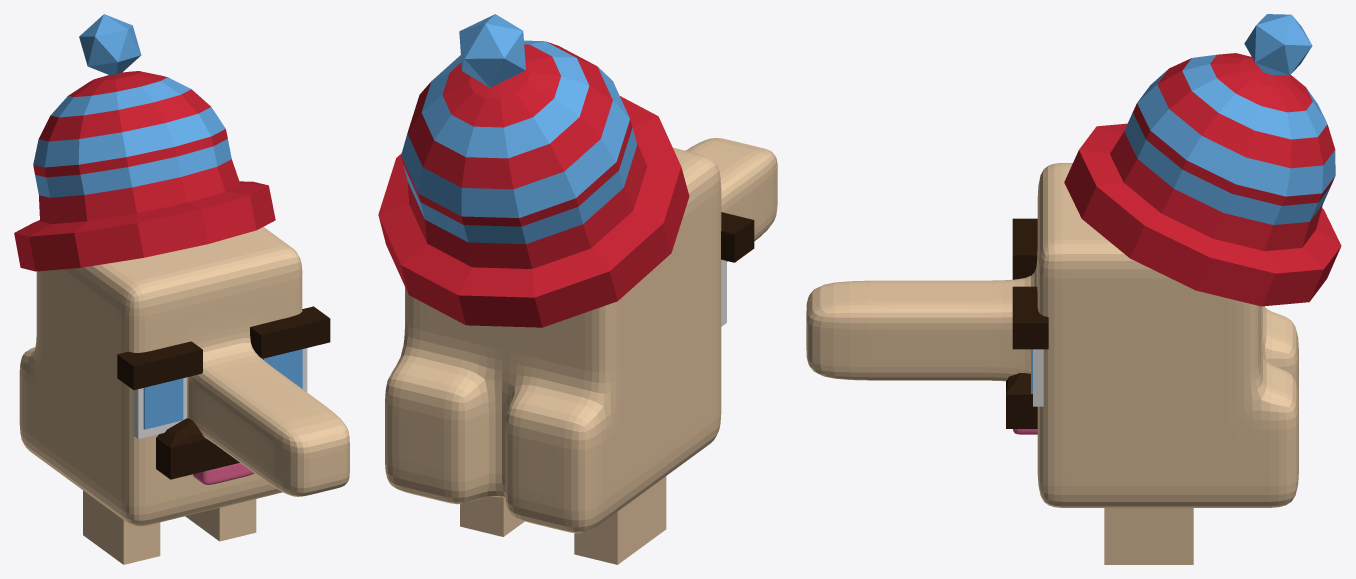
The model's file is kürt.glb.
3 renders of one model, left to right at view 1: azimuth 30°, elevation 25°; view 2: azimuth 150°, elevation 25°; view 3: azimuth 270°, elevation 25°, orthographic. The views are drawn at different scales.
Parts seen in each view (by area): view 1: Cube.002; view 2: Cube.002; view 3: Cube.002.
Part boxes in pixels (x1=…): Cube.002: x1=14, y1=14, x2=349, y2=564; Cube.002: x1=378, y1=14, x2=777, y2=564; Cube.002: x1=806, y1=14, x2=1341, y2=564.
Size of the model in its own units: 2.55 by 5.1 by 4.81.
